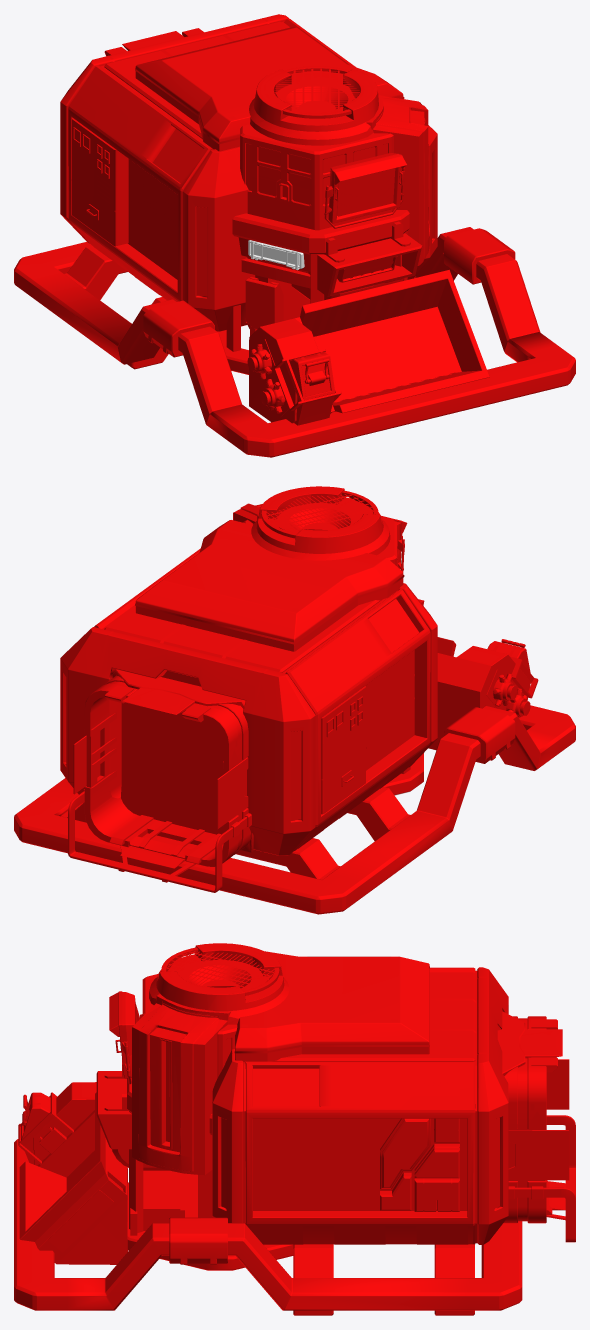
The model's file is Hopper_0.4b.fbx.
3 renders of one model, top to bottom at view 1: azimuth 30°, elevation 25°; view 2: azimuth 150°, elevation 25°; view 3: azimuth 270°, elevation 25°, orthographic.
Visible parts, largest first — view 1: MinerMk1_static; view 2: MinerMk1_static; view 3: MinerMk1_static.
Boxes of the visible parts, x1,y1,x2,y2 form: MinerMk1_static: [14, 14, 575, 457]; MinerMk1_static: [14, 486, 575, 914]; MinerMk1_static: [14, 943, 575, 1315].
Size of the model in its own units: 495 by 372 by 693.
